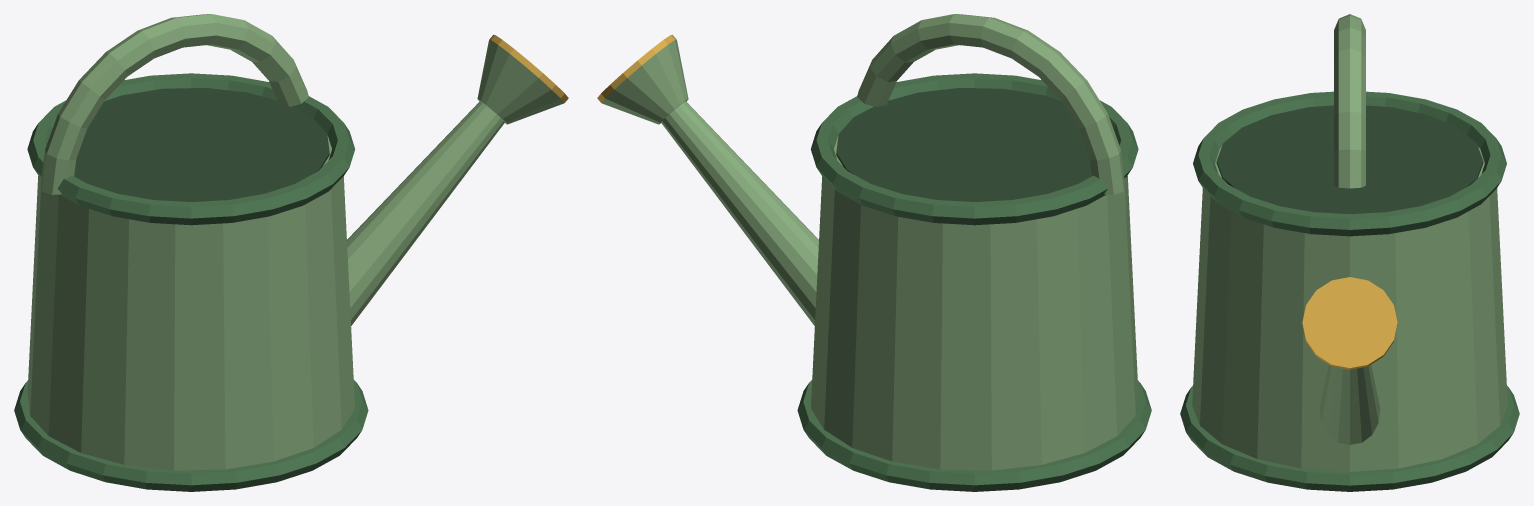
The model's file is regadera.glb.
The picture shows the model from 3 angles, left to right: view 1: azimuth 30°, elevation 25°; view 2: azimuth 150°, elevation 25°; view 3: azimuth 270°, elevation 25°; orthographic projection. The views are drawn at different scales.
Parts seen in each view (by area): view 1: Regadera; view 2: Regadera; view 3: Regadera.
Boxes of the visible parts, x1,y1,x2,y2 form: Regadera: [14, 14, 568, 491]; Regadera: [597, 14, 1151, 491]; Regadera: [1180, 14, 1519, 491].
Bounding box in the file's own units: 1.82 × 1.35 × 1.07.
